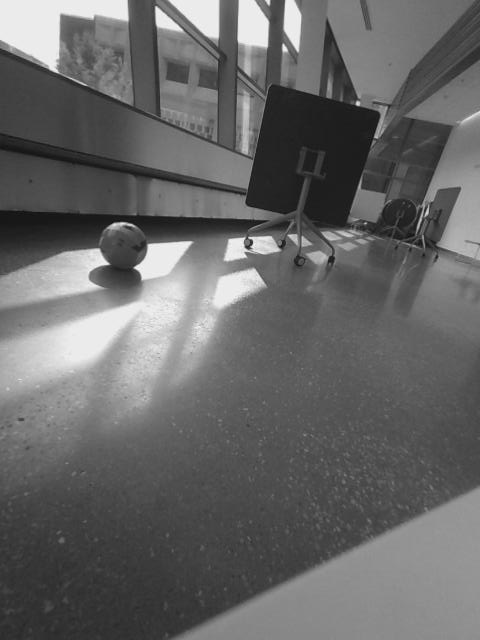ball: (95, 218, 150, 271)
